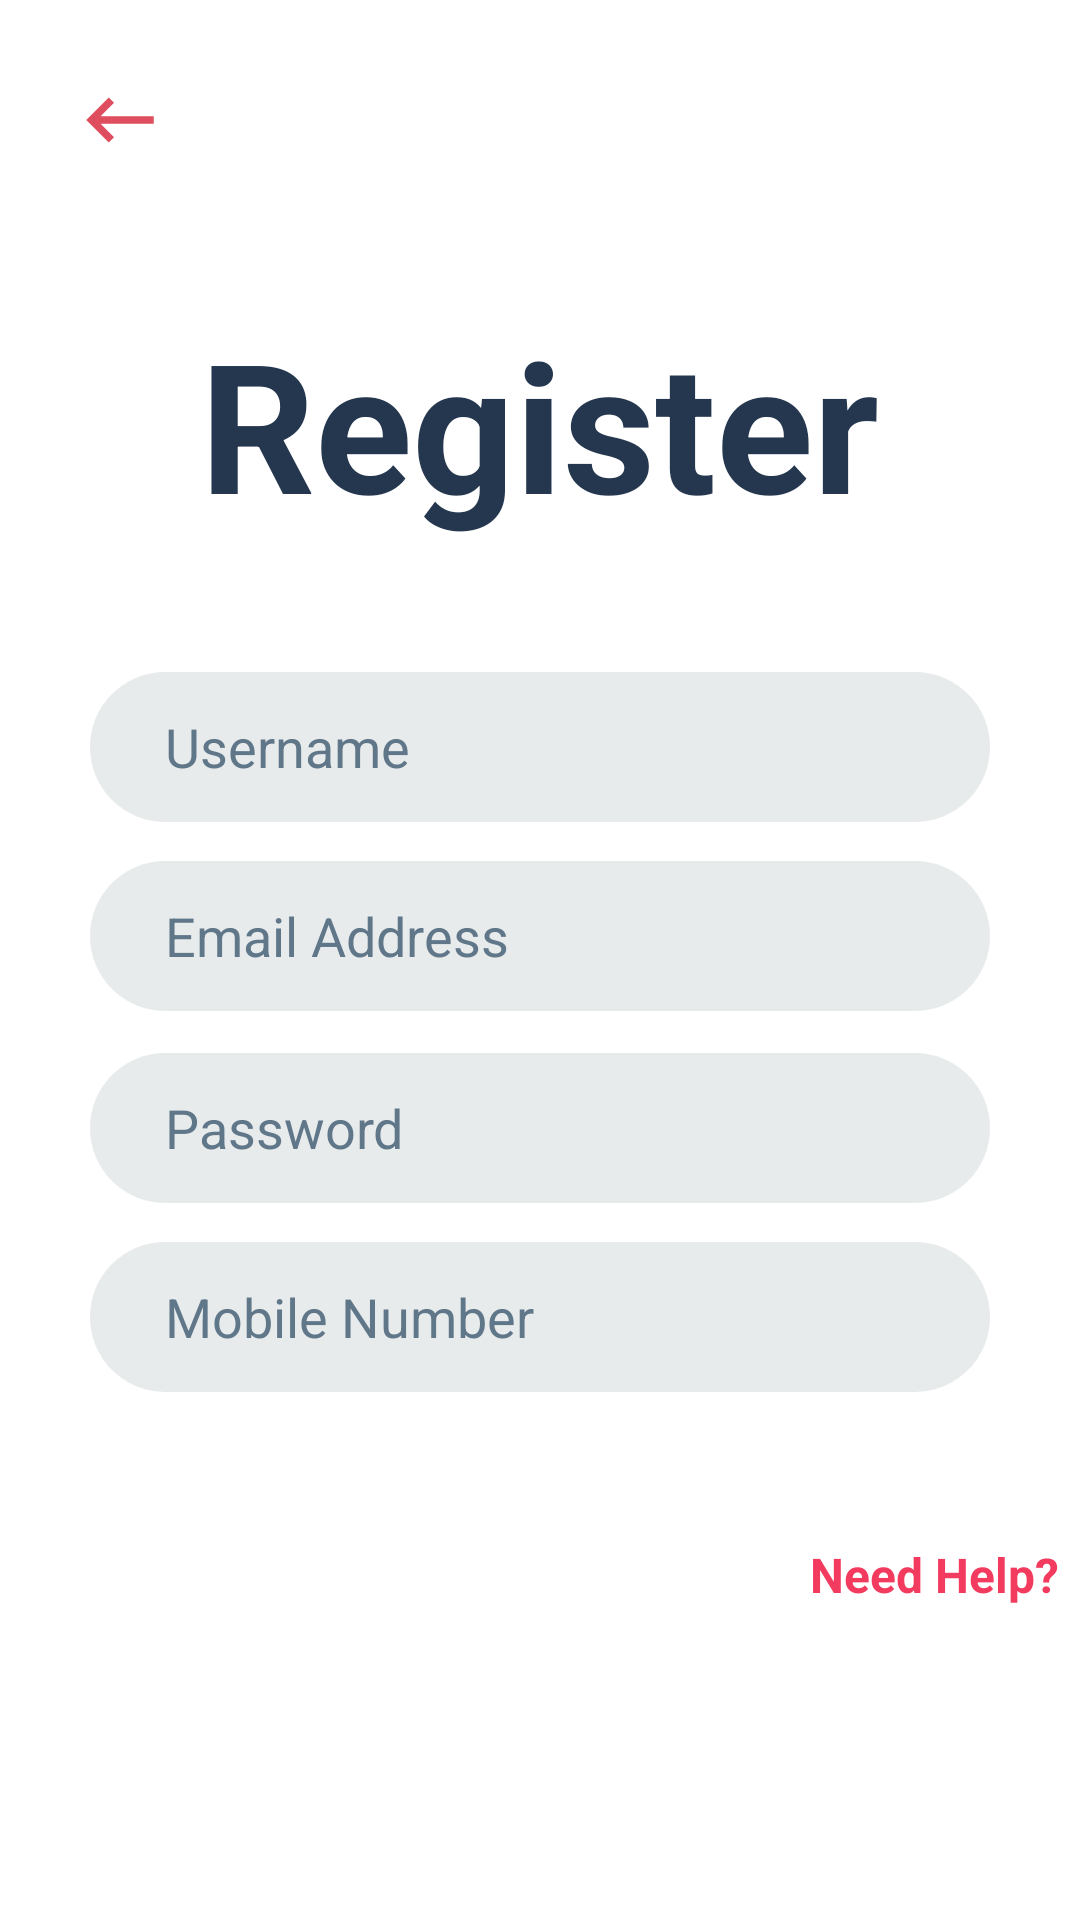

Point at icon controls on the screen. Image size 1080 x 1920, points as (x=x, y=y).
keyboard backspace: (x=120, y=120)
